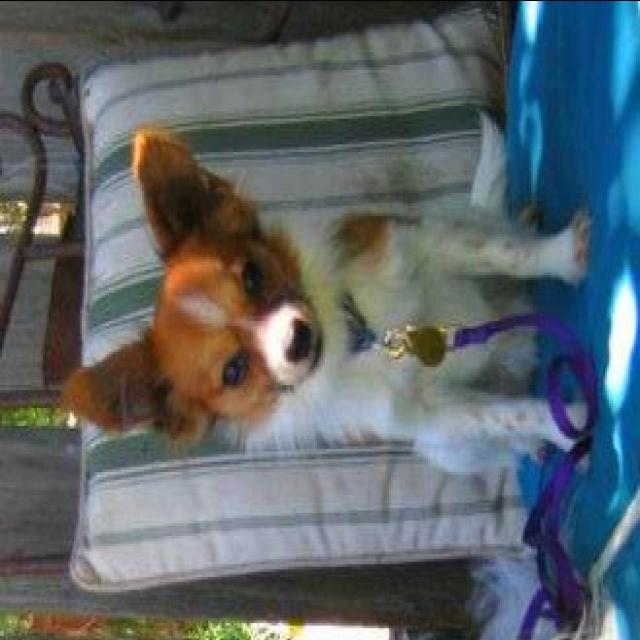papillon: (59, 102, 596, 478)
